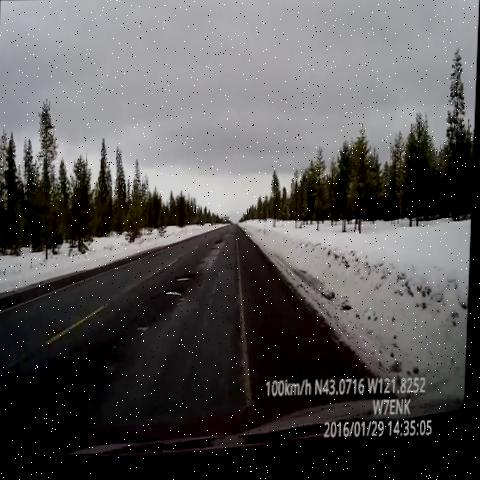pothole: (167, 269, 200, 290), (207, 235, 230, 256), (164, 291, 190, 306), (134, 322, 156, 339)
